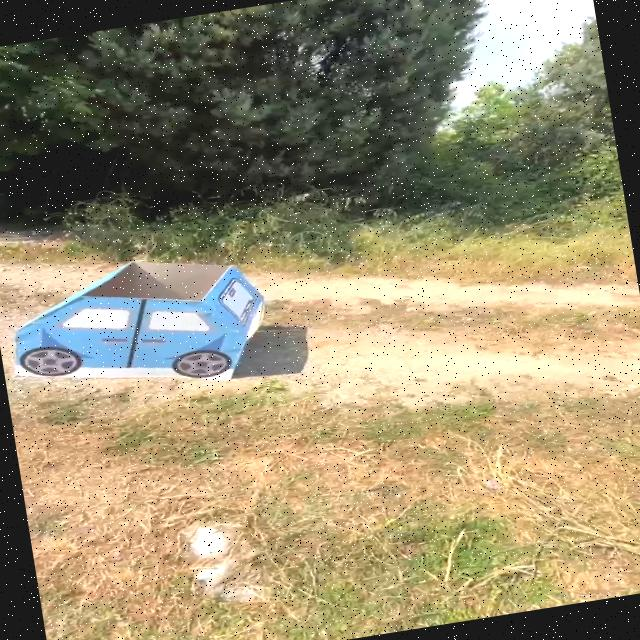blue_car: (0, 222, 300, 429)
